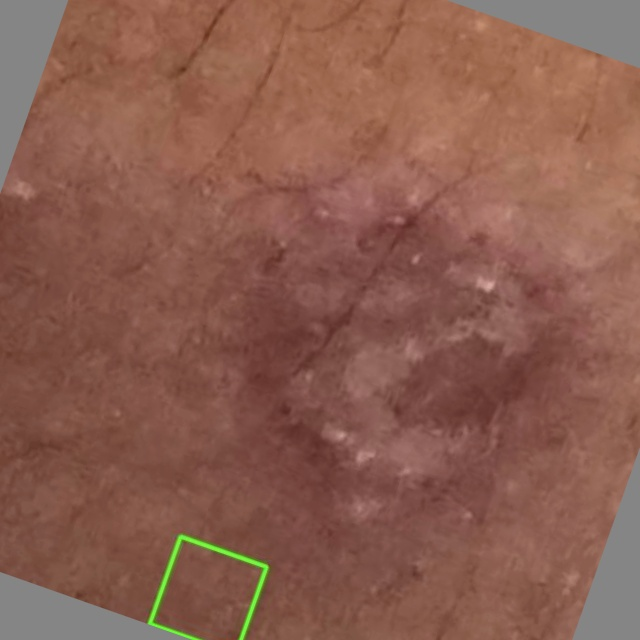Tinea Corporis: (150, 536, 266, 639)
